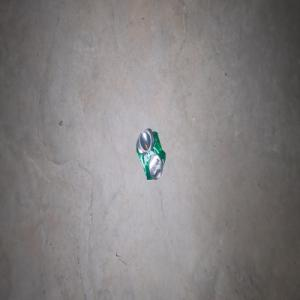SodaCan: (136, 127, 165, 180)
